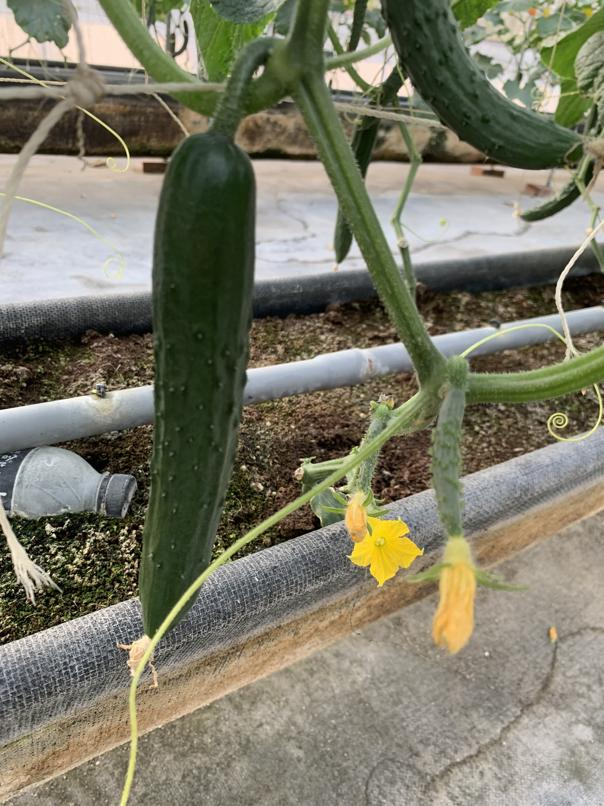cucumber: (111, 135, 258, 629)
